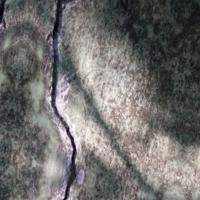crack: (38, 0, 88, 199)
